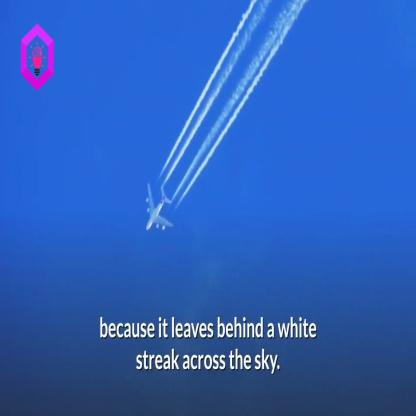plane: (141, 181, 177, 235)
